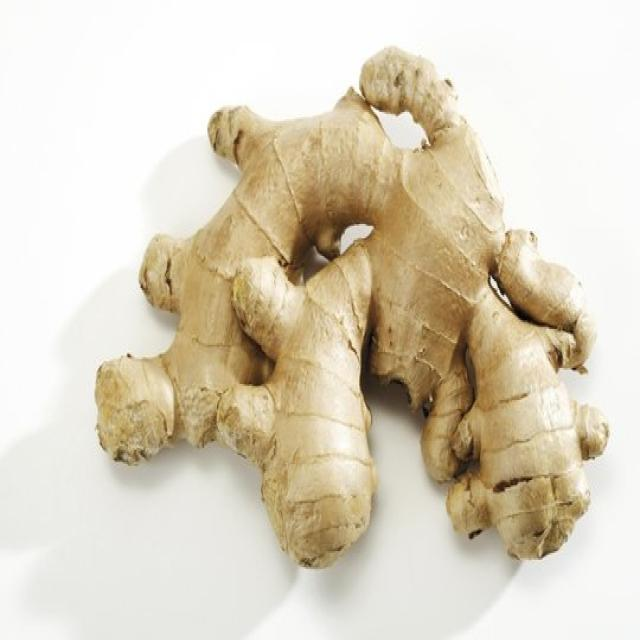Ginger: (93, 42, 609, 570)
